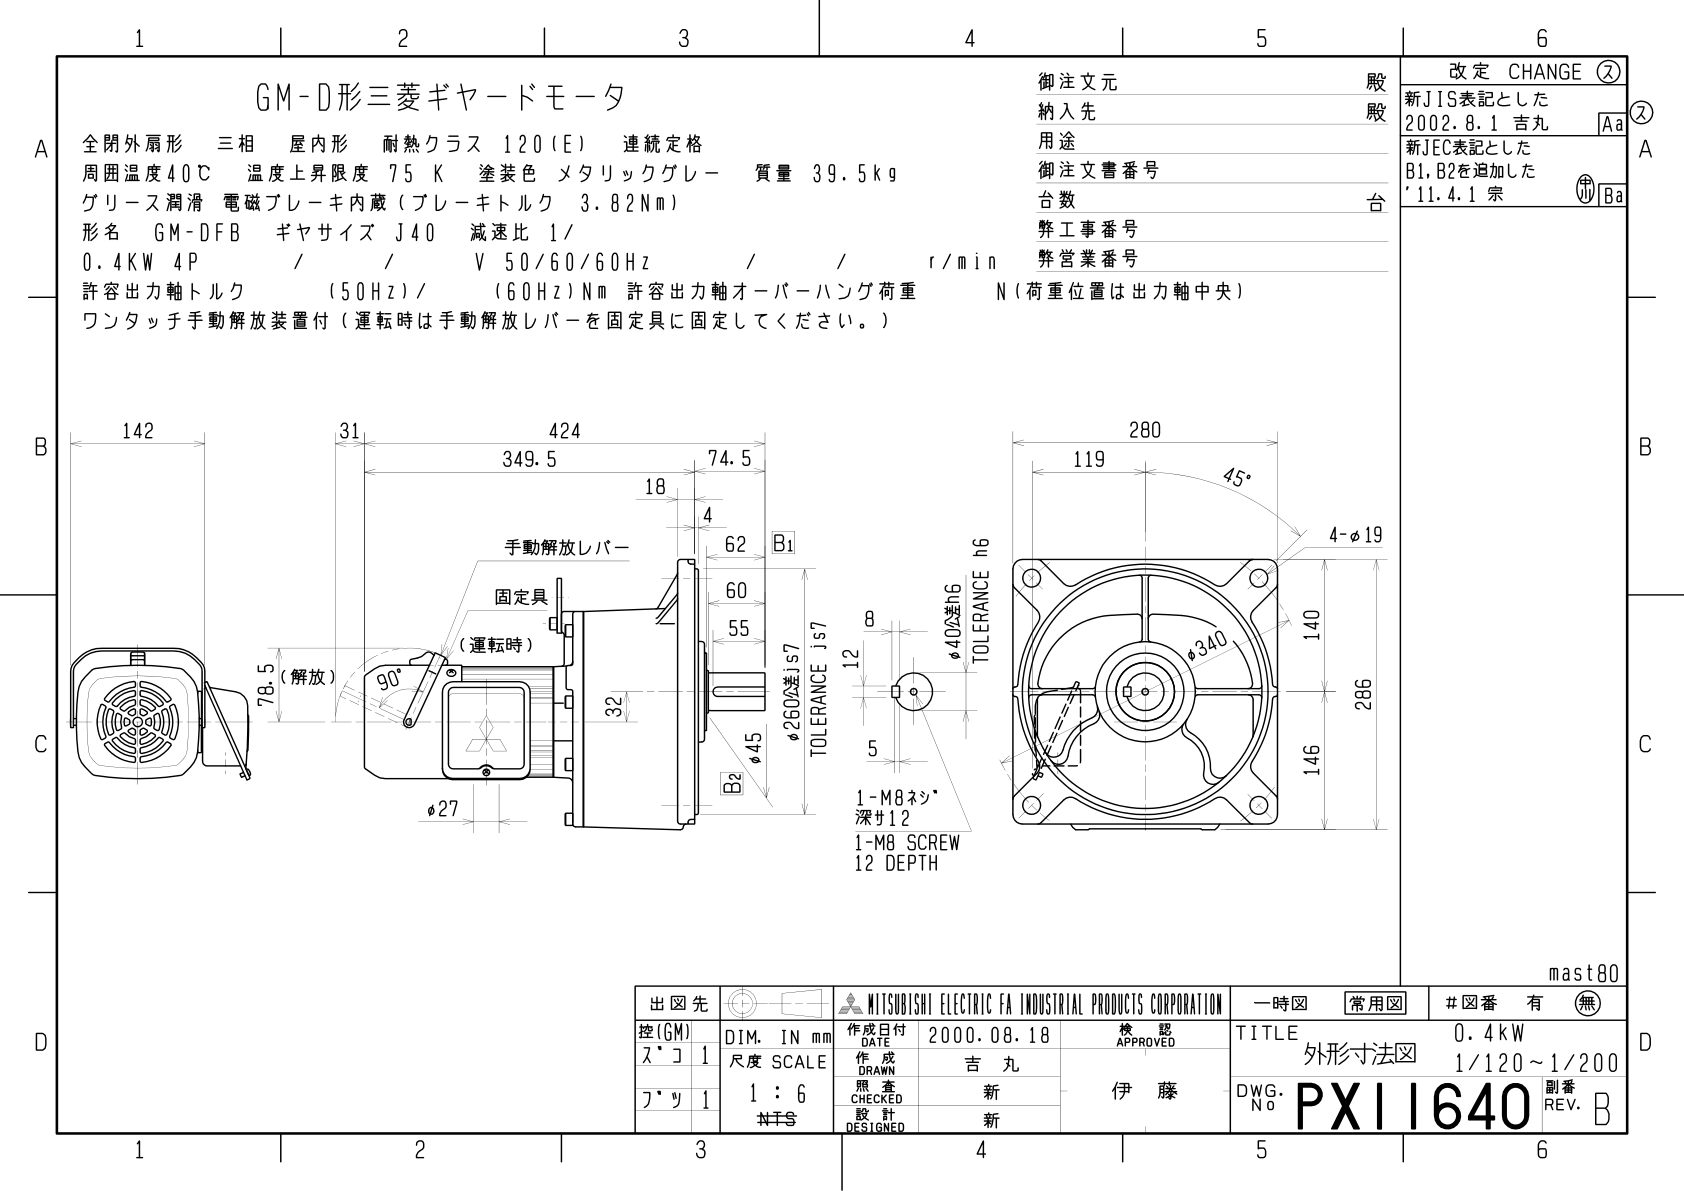GM_D_手動解放ブレーキ＿三相_フランジ: (61, 354, 1392, 971)
